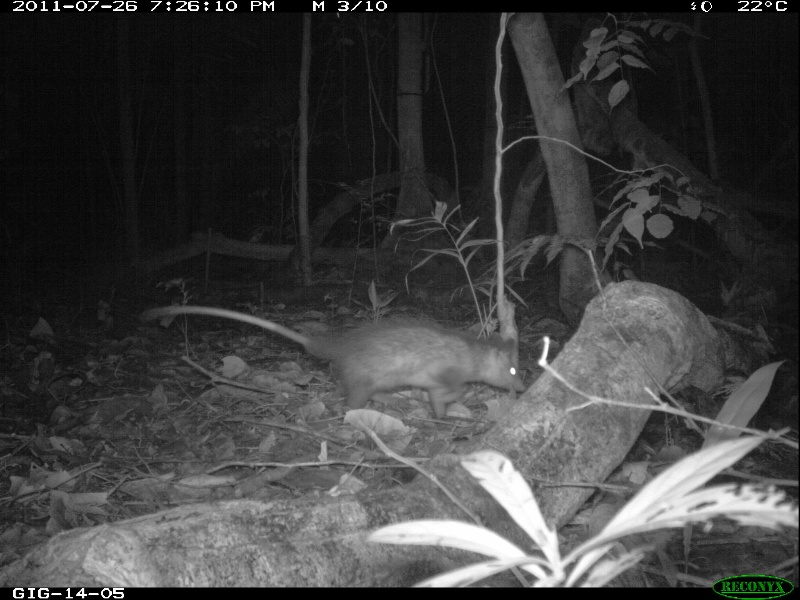opossum: (145, 294, 527, 425)
